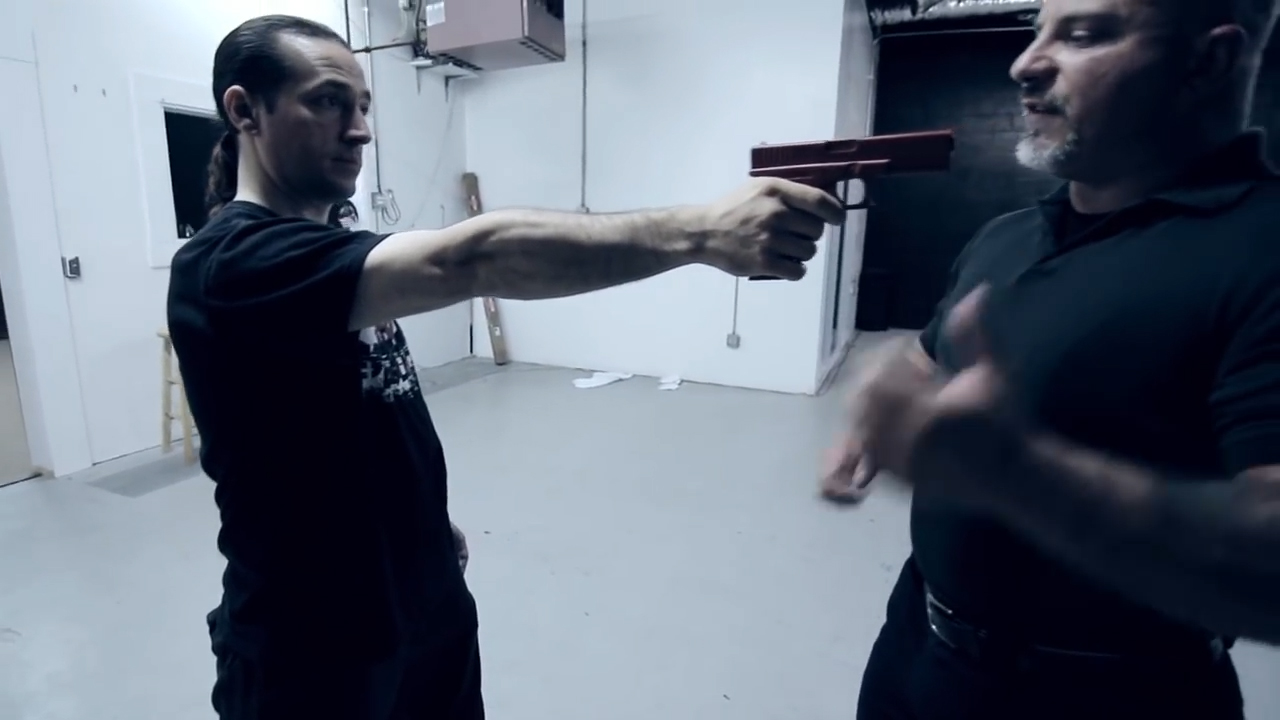pistol: (746, 127, 958, 284)
